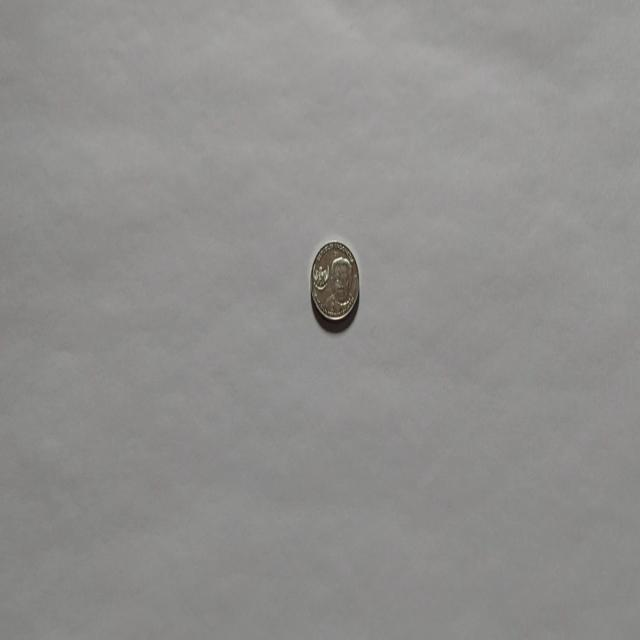seratus rupiah: (310, 239, 360, 325)
